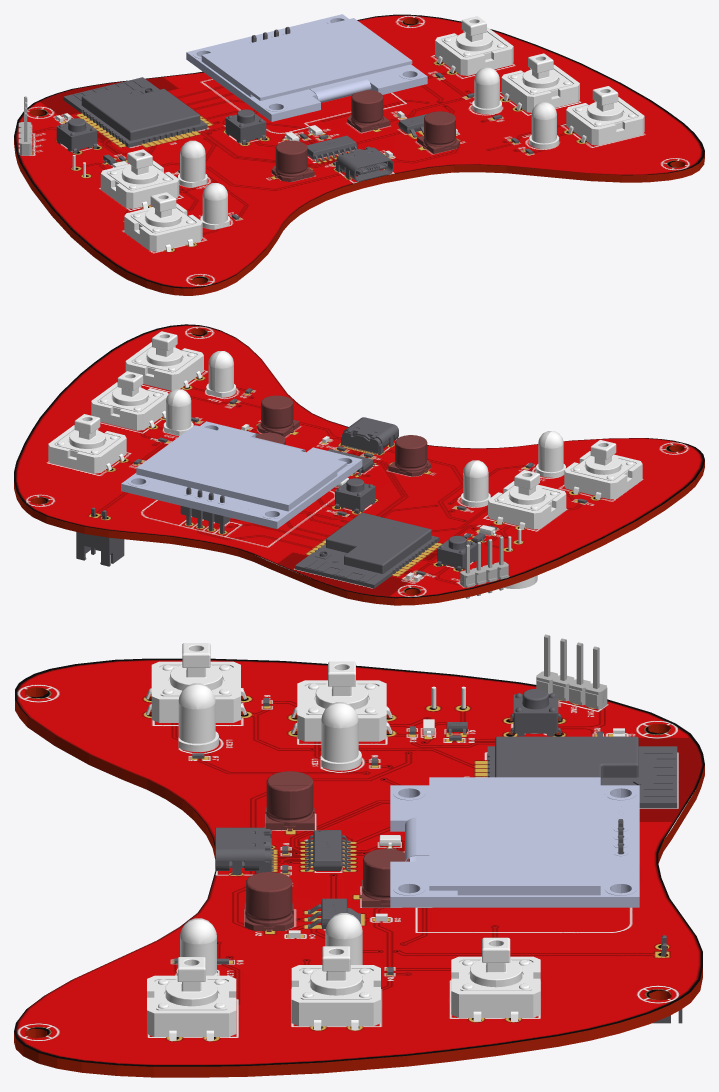
3 views of the same model, one above another, from view 1: azimuth 30°, elevation 25°; view 2: azimuth 150°, elevation 25°; view 3: azimuth 270°, elevation 25° (orthographic). The views are drawn at different scales.
Parts seen in each view (by area): view 1: Board-mesh, OLED1-mesh, U9-mesh, KEY2-mesh, KEY4-mesh, KEY5-mesh, KEY3-mesh, KEY1-mesh, U1-mesh, U3-mesh, U2-mesh, USB1-mesh (+8 smaller); view 2: Board-mesh, OLED1-mesh, U9-mesh, KEY2-mesh, KEY1-mesh, KEY5-mesh, KEY3-mesh, KEY4-mesh, USB1-mesh (×2), H3-mesh, U1-mesh, U2-mesh (+7 smaller); view 3: Board-mesh, OLED1-mesh, U9-mesh, KEY5-mesh, KEY3-mesh, KEY4-mesh, KEY1-mesh, KEY2-mesh, H3-mesh, U1-mesh, U2-mesh, LED2-mesh (+7 smaller).
Boxes of the visible parts, x1,y1,x2,y2 form: Board-mesh: [14, 14, 704, 295]; OLED1-mesh: [186, 14, 427, 121]; U9-mesh: [63, 77, 207, 147]; KEY2-mesh: [124, 192, 202, 251]; KEY4-mesh: [566, 86, 644, 145]; KEY5-mesh: [435, 16, 513, 75]; KEY3-mesh: [501, 53, 579, 112]; KEY1-mesh: [100, 149, 179, 208]; U1-mesh: [271, 140, 314, 181]; U3-mesh: [347, 90, 390, 132]; U2-mesh: [417, 111, 459, 153]; USB1-mesh: [336, 146, 393, 181]; Board-mesh: [14, 324, 704, 605]; OLED1-mesh: [121, 421, 362, 528]; U9-mesh: [295, 512, 439, 588]; KEY2-mesh: [564, 439, 642, 499]; KEY1-mesh: [488, 470, 566, 529]; KEY5-mesh: [48, 414, 126, 473]; KEY3-mesh: [91, 371, 168, 430]; KEY4-mesh: [125, 331, 203, 390]; USB1-mesh (×2): [341, 417, 398, 454]; H3-mesh: [460, 536, 508, 598]; U1-mesh: [388, 435, 430, 476]; U2-mesh: [257, 395, 299, 437]; Board-mesh: [14, 658, 704, 1077]; OLED1-mesh: [390, 777, 639, 907]; U9-mesh: [487, 736, 677, 808]; KEY5-mesh: [451, 937, 540, 1021]; KEY3-mesh: [291, 946, 380, 1030]; KEY4-mesh: [147, 957, 236, 1041]; KEY1-mesh: [291, 661, 392, 741]; KEY2-mesh: [146, 643, 246, 722]; H3-mesh: [536, 634, 607, 709]; U1-mesh: [265, 771, 314, 831]; U2-mesh: [244, 872, 293, 931]; LED2-mesh: [178, 683, 218, 751].
Size of the model in its own units: 0.1297 by 0.0175 by 0.0928.
Materials: 8 (2 with a texture image).
